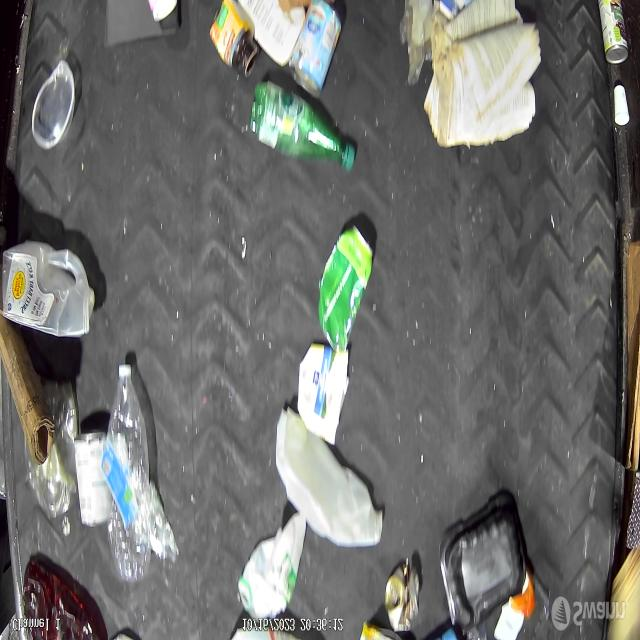can: (314, 225, 373, 352), (31, 48, 96, 152), (73, 418, 114, 534), (288, 0, 326, 105), (382, 556, 422, 637), (598, 0, 633, 70)
milk_jug: (274, 407, 386, 552)
non_white_jug: (1, 225, 94, 351)
plastic_bottle: (103, 360, 154, 588), (248, 75, 360, 177)
